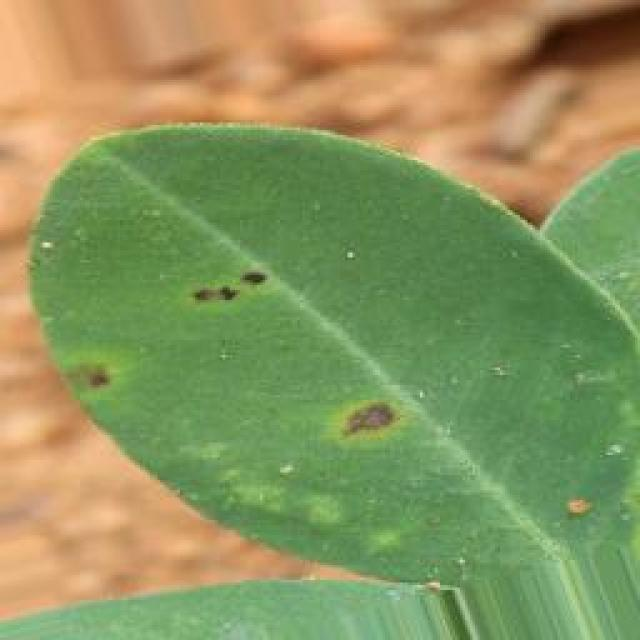Sigatoka: (178, 246, 322, 354), (58, 322, 145, 423), (314, 380, 409, 460), (524, 474, 602, 534)
